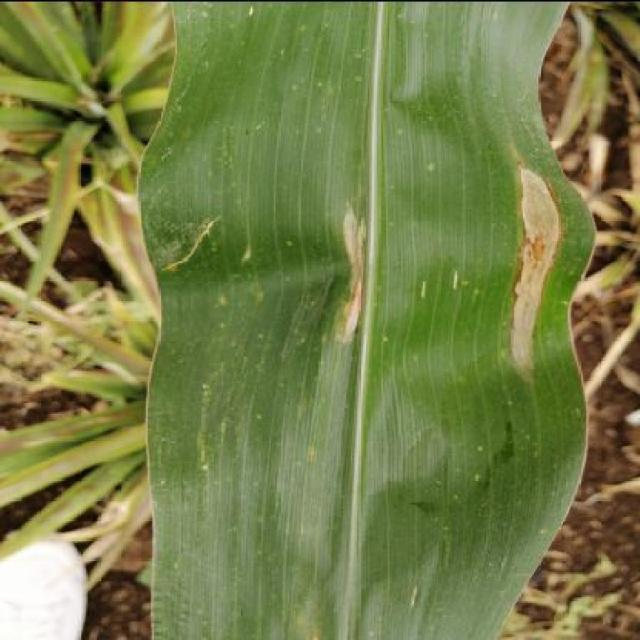Corn_Leaf_Blight: (128, 0, 602, 640)
